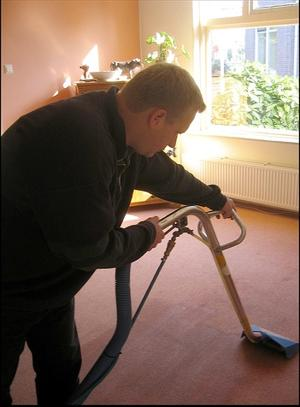person: (1, 63, 239, 407)
